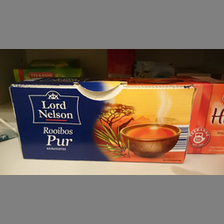tea: (9, 77, 196, 165)
